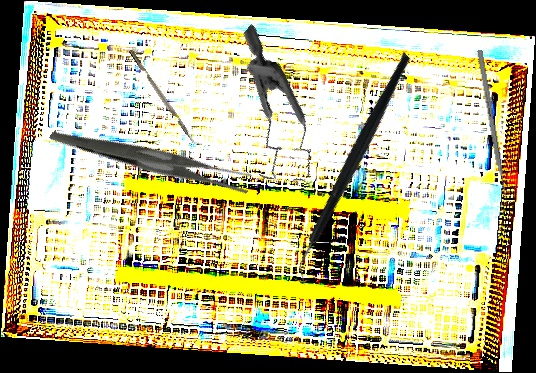Chopper: (234, 51, 476, 288), (128, 46, 203, 150)
Dressing Forceps: (48, 73, 257, 243)
Pusher: (476, 49, 510, 207)
Speculum: (179, 24, 359, 201)
